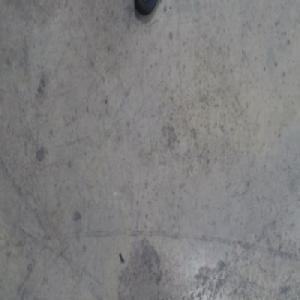AdjustableWrench: (133, 0, 157, 15)
